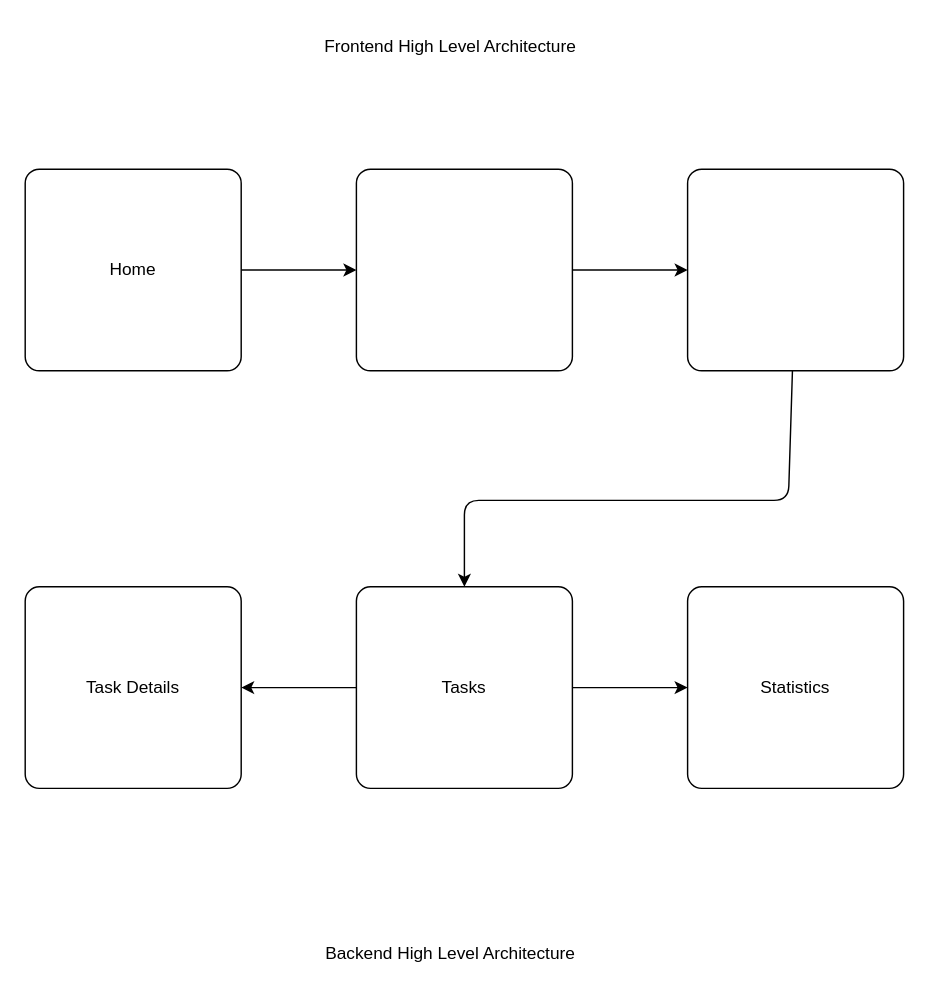
Some shapes in this 929 by 999 pixel diagram are drawn without their labels. The shapes that lost their labels are listed below. From the top down, each one's centre as x and y in pixels, then its label:
At [463,269]: "Authentication".
At [795,269]: "Confirmation".
